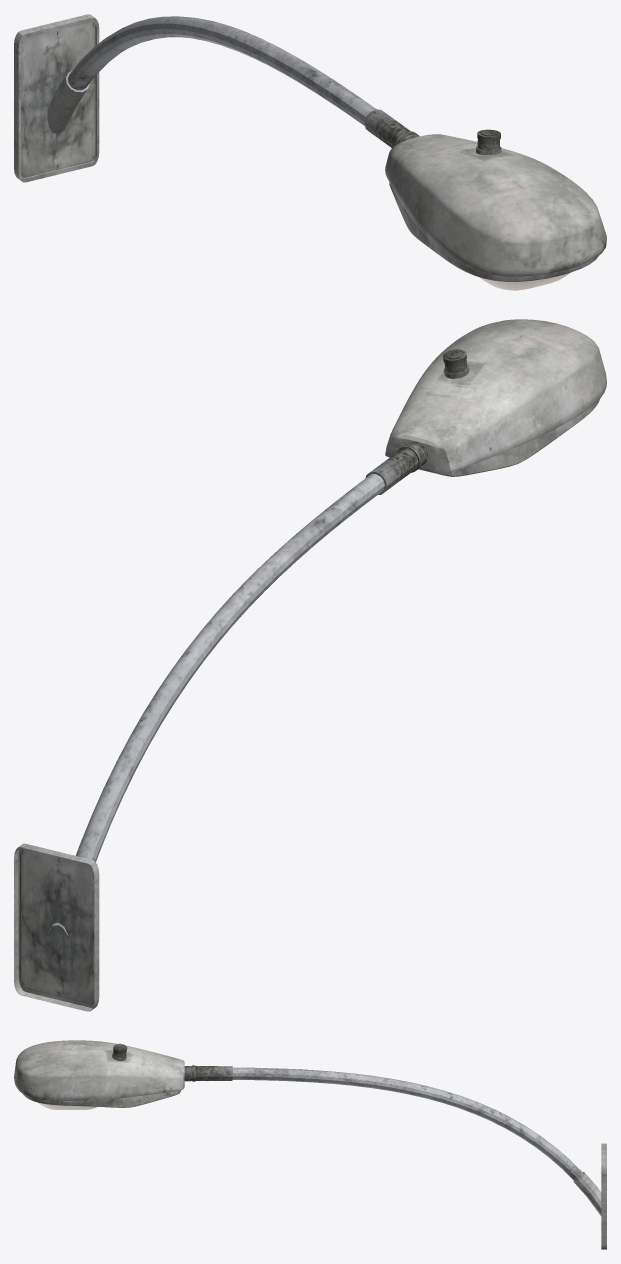
The model's file is E_ELC_LIGHT.fbx.
3 views of the same model, one above another, from view 1: azimuth 30°, elevation 25°; view 2: azimuth 150°, elevation 25°; view 3: azimuth 270°, elevation 25° (orthographic). The views are drawn at different scales.
Visible parts, largest first — view 1: E_ELC_LIGHT; view 2: E_ELC_LIGHT; view 3: E_ELC_LIGHT.
Boxes of the visible parts, x1,y1,x2,y2 form: E_ELC_LIGHT: (14, 14, 606, 290); E_ELC_LIGHT: (14, 319, 606, 1011); E_ELC_LIGHT: (14, 1040, 606, 1249).
Bounding box in the file's own units: 30.5 × 70.7 × 192.
Materials: 2 (2 with a texture image).
